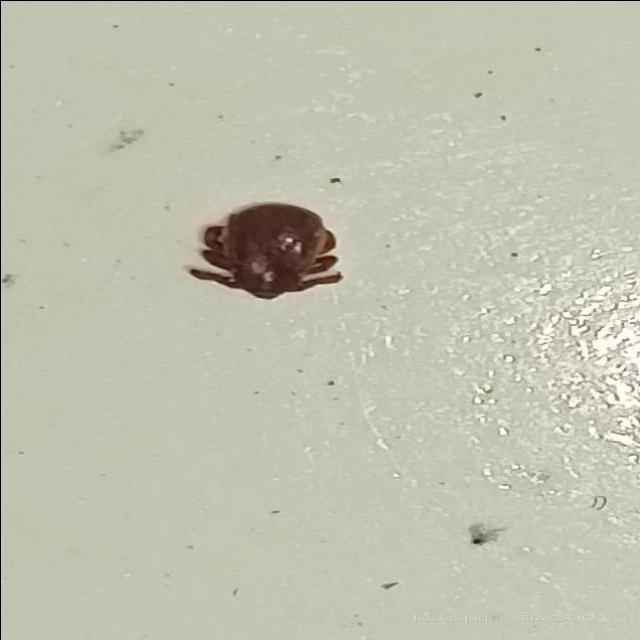Rhipicephalus Sanguineus-M: (186, 202, 341, 301)
